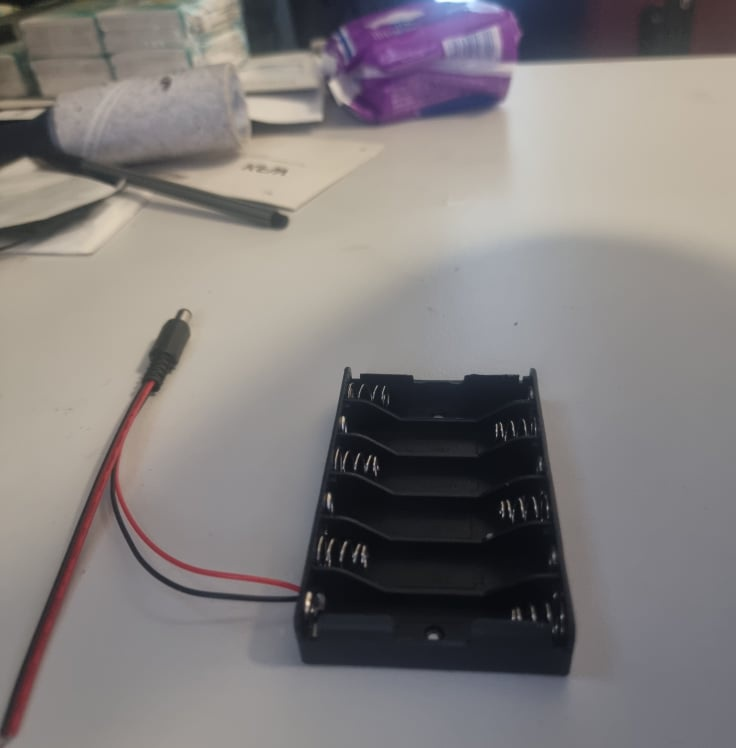BATTERY BOX: (294, 365, 577, 675)
